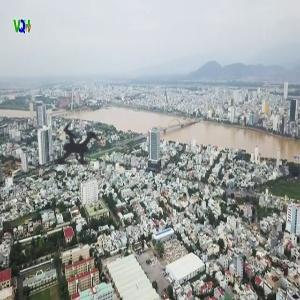drone: (1, 74, 145, 218)
